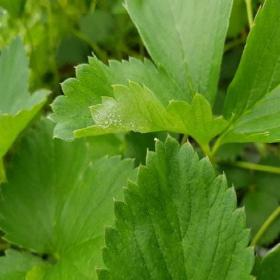Powdery Mildew Leaf: (47, 56, 236, 154)
